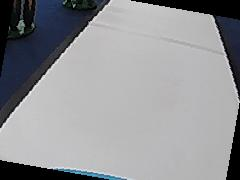corn: (5, 0, 39, 37)
